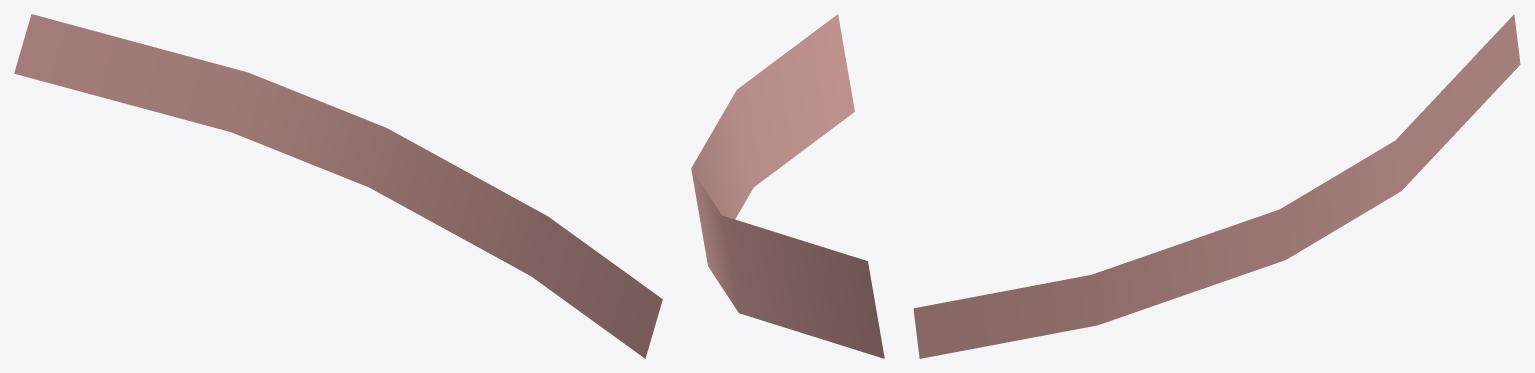
3 views of the same model, side by side, from view 1: azimuth 30°, elevation 25°; view 2: azimuth 150°, elevation 25°; view 3: azimuth 270°, elevation 25° (orthographic). The views are drawn at different scales.
Visible parts, largest first — view 1: Object45; view 2: Object45; view 3: Object45.
Boxes of the visible parts, x1,y1,x2,y2 form: Object45: (14,14,662,358); Object45: (691,14,884,358); Object45: (913,14,1520,358).
Bounding box in the file's own units: 17668 × 9906 × 27834.
